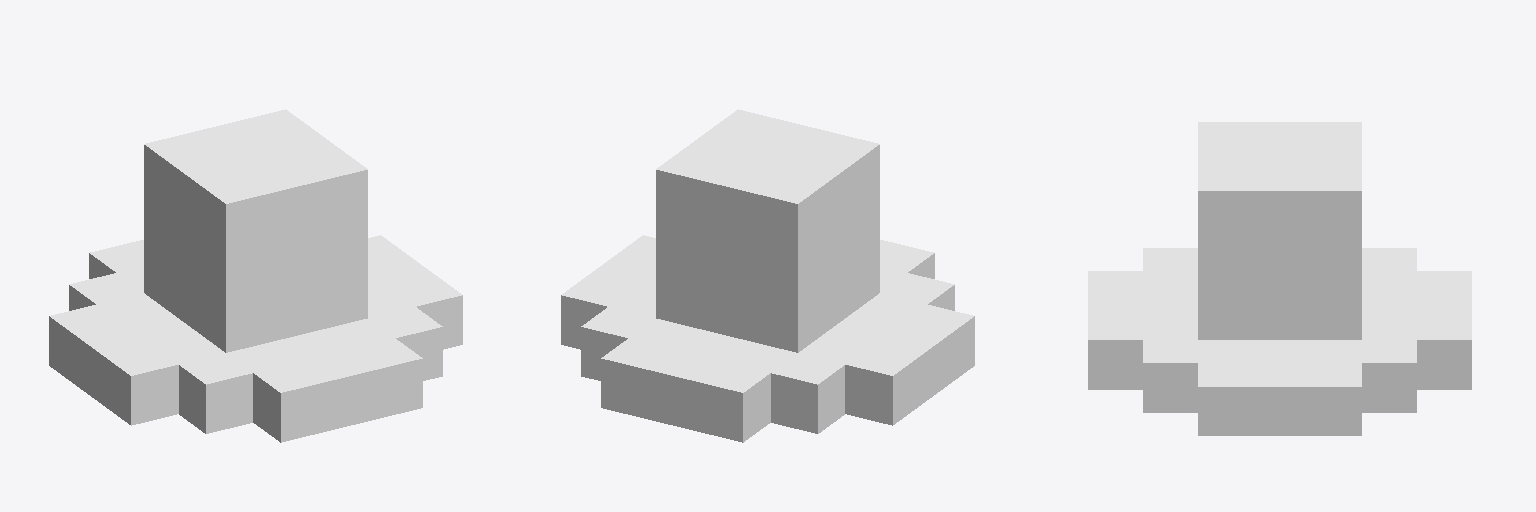
File: sc_shiplight.obj
The picture shows the model from 3 angles: view 1: azimuth 30°, elevation 25°; view 2: azimuth 150°, elevation 25°; view 3: azimuth 270°, elevation 25°; orthographic projection.
Size of the model in its own units: 7 by 4 by 7.